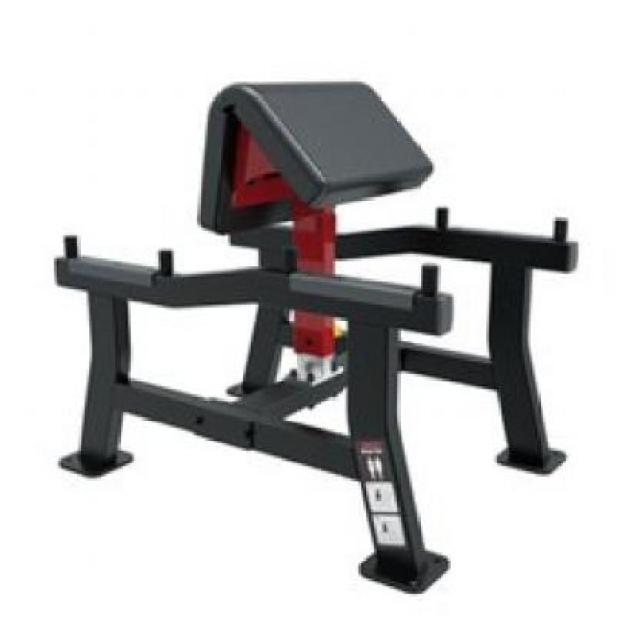arm curl machine: (55, 83, 577, 595)
